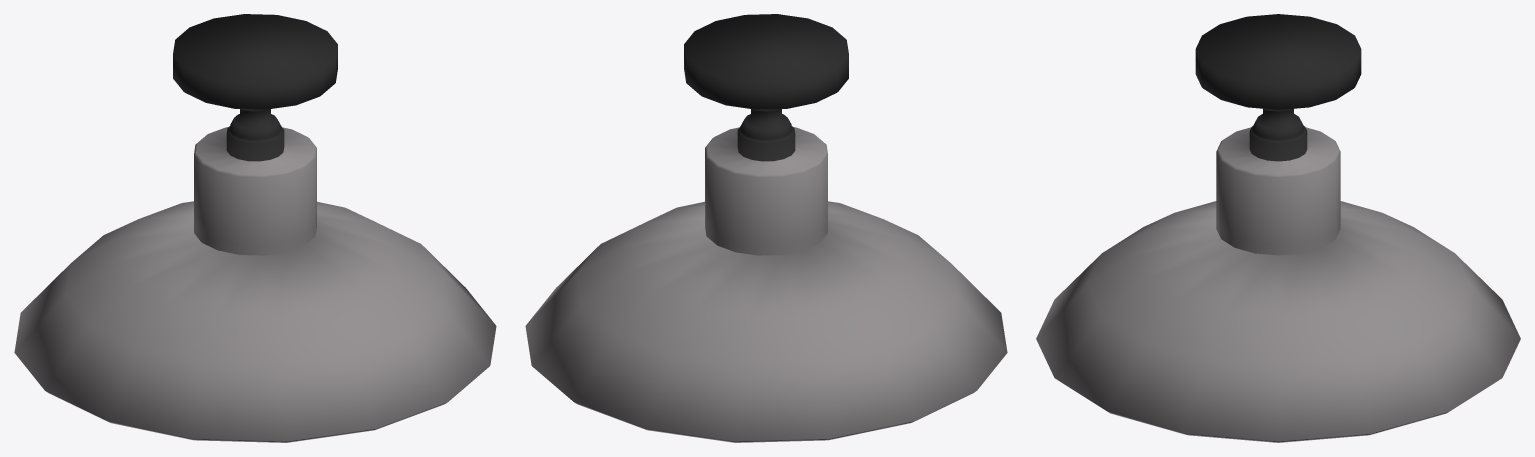
File: Light1.fbx
3 renders of one model, left to right at view 1: azimuth 30°, elevation 25°; view 2: azimuth 150°, elevation 25°; view 3: azimuth 270°, elevation 25°, orthographic.
Parts seen in each view (by area): view 1: Light1; view 2: Light1; view 3: Light1.
Part boxes in pixels (box(x1,y1,x2,y2)): Light1: box(14, 14, 496, 442); Light1: box(525, 14, 1007, 442); Light1: box(1036, 14, 1520, 442).
Size of the model in its own units: 76.35 by 51.03 by 76.35.
1 material, 1 textured.
